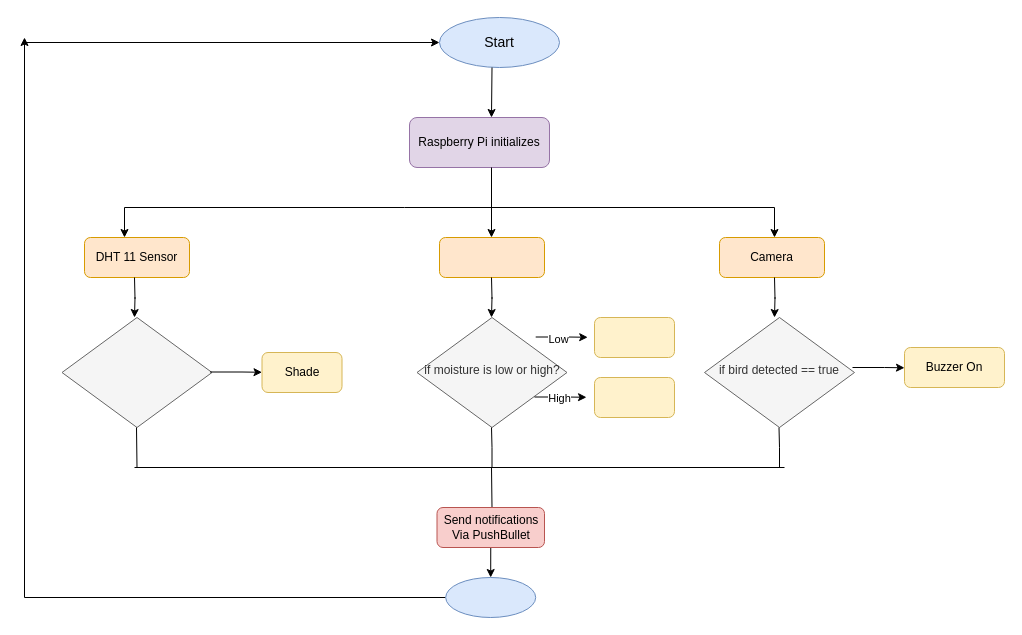
The diagram is 1022 pixels wide and 635 high, and some of its shapes have lost their labels. The shapes that lost their labels are listed below. From the top down, each one's box as (x1, y1, x2, y2) in pixels, then its label:
(438, 236, 544, 278): Soil Moisture Sensor
(594, 316, 674, 358): Pump On
(61, 316, 212, 428): if temperature and humidity > threshold
(594, 376, 674, 418): Pump Off
(445, 576, 536, 618): End
